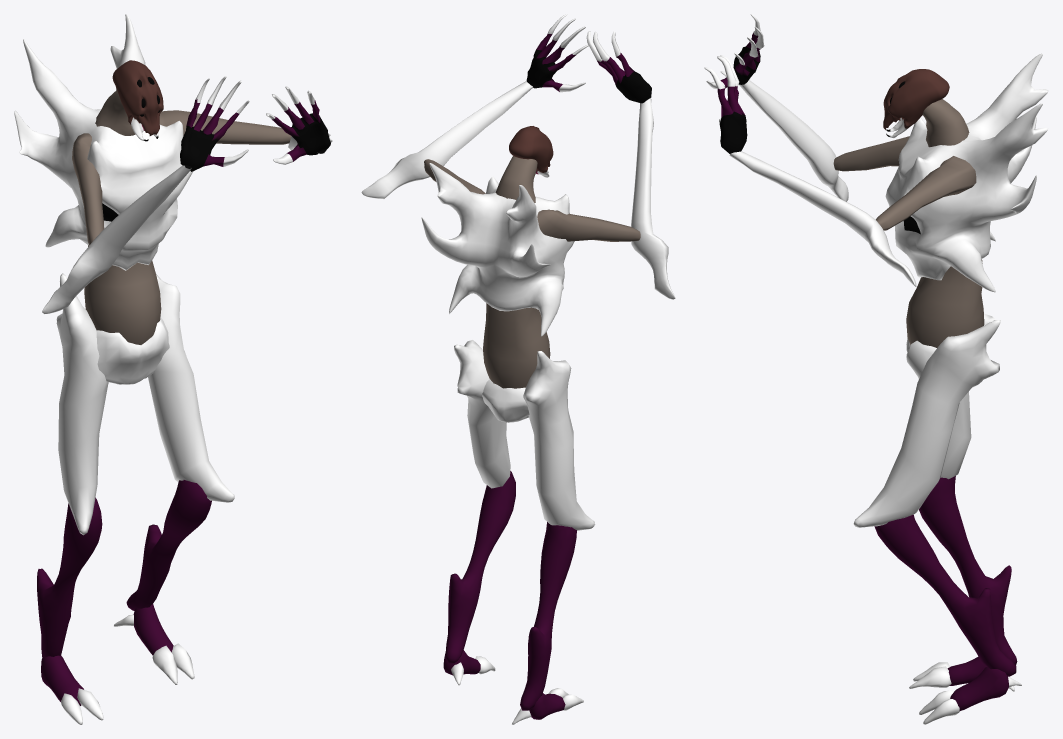
Rendered from MonsterPose1.fbx.
3 renders of one model, left to right at view 1: azimuth 30°, elevation 25°; view 2: azimuth 150°, elevation 25°; view 3: azimuth 270°, elevation 25°, orthographic. The views are drawn at different scales.
Parts seen in each view (by area): view 1: Chest_Geo, R_Top_Leg_Geo, L_Top_Leg_Geo, Stmch_Geo, R_Lwr_Leg_Geo, R_Forarm_Geo, L_Lwr_Leg_Geo, Thorax_Geo, R_Hand_Geo, Head_Geo, L_Hand_Geo, R_Arm_Base_Geo (+5 smaller); view 2: Chest_Geo, R_Top_Leg_Geo, L_Lwr_Leg_Geo, R_Lwr_Leg_Geo, Stmch_Geo, L_Top_Leg_Geo, L_Forarm_Geo, R_Forarm_Geo, R_Arm_Base_Geo, L_Hand_Geo, R_Hand_Geo, Thorax_Geo (+3 smaller); view 3: Chest_Geo, L_Top_Leg_Geo, L_Lwr_Leg_Geo, R_Lwr_Leg_Geo, Stmch_Geo, L_Forarm_Geo, R_Forarm_Geo, L_Arm_Base_Geo, Head_Geo, L_Hand_Geo, Neck_Geo, R_Arm_Base_Geo (+6 smaller).
Boxes of the visible parts, x1=… form: Chest_Geo: x1=14, y1=14, x2=193, y2=270; R_Top_Leg_Geo: x1=56, y1=273, x2=108, y2=535; L_Top_Leg_Geo: x1=148, y1=274, x2=234, y2=502; Stmch_Geo: x1=84, y1=245, x2=161, y2=344; R_Lwr_Leg_Geo: x1=37, y1=497, x2=102, y2=657; R_Forarm_Geo: x1=42, y1=165, x2=192, y2=313; L_Lwr_Leg_Geo: x1=126, y1=480, x2=211, y2=610; Thorax_Geo: x1=96, y1=317, x2=169, y2=384; R_Hand_Geo: x1=180, y1=75, x2=249, y2=171; Head_Geo: x1=112, y1=60, x2=163, y2=141; L_Hand_Geo: x1=266, y1=86, x2=330, y2=164; R_Arm_Base_Geo: x1=72, y1=133, x2=104, y2=245; Chest_Geo: x1=421, y1=163, x2=574, y2=336; R_Top_Leg_Geo: x1=523, y1=351, x2=594, y2=530; L_Lwr_Leg_Geo: x1=445, y1=471, x2=515, y2=663; R_Lwr_Leg_Geo: x1=520, y1=522, x2=576, y2=710; Stmch_Geo: x1=483, y1=303, x2=550, y2=388; L_Top_Leg_Geo: x1=454, y1=340, x2=510, y2=488; L_Forarm_Geo: x1=361, y1=81, x2=532, y2=199; R_Forarm_Geo: x1=631, y1=98, x2=675, y2=299; R_Arm_Base_Geo: x1=537, y1=209, x2=640, y2=241; L_Hand_Geo: x1=526, y1=14, x2=588, y2=92; R_Hand_Geo: x1=586, y1=31, x2=651, y2=103; Thorax_Geo: x1=482, y1=379, x2=529, y2=422; Chest_Geo: x1=885, y1=53, x2=1048, y2=292; L_Top_Leg_Geo: x1=853, y1=320, x2=1000, y2=527; L_Lwr_Leg_Geo: x1=874, y1=514, x2=1016, y2=676; R_Lwr_Leg_Geo: x1=919, y1=476, x2=1017, y2=664; Stmch_Geo: x1=906, y1=259, x2=984, y2=347; L_Forarm_Geo: x1=729, y1=151, x2=916, y2=286; R_Forarm_Geo: x1=739, y1=80, x2=848, y2=201; L_Arm_Base_Geo: x1=876, y1=156, x2=976, y2=230; Head_Geo: x1=883, y1=69, x2=949, y2=138; L_Hand_Geo: x1=704, y1=55, x2=747, y2=153; Neck_Geo: x1=922, y1=99, x2=969, y2=147; R_Arm_Base_Geo: x1=833, y1=136, x2=909, y2=171.
Bounding box in the file's own units: 14.08 × 28.84 × 13.05.
